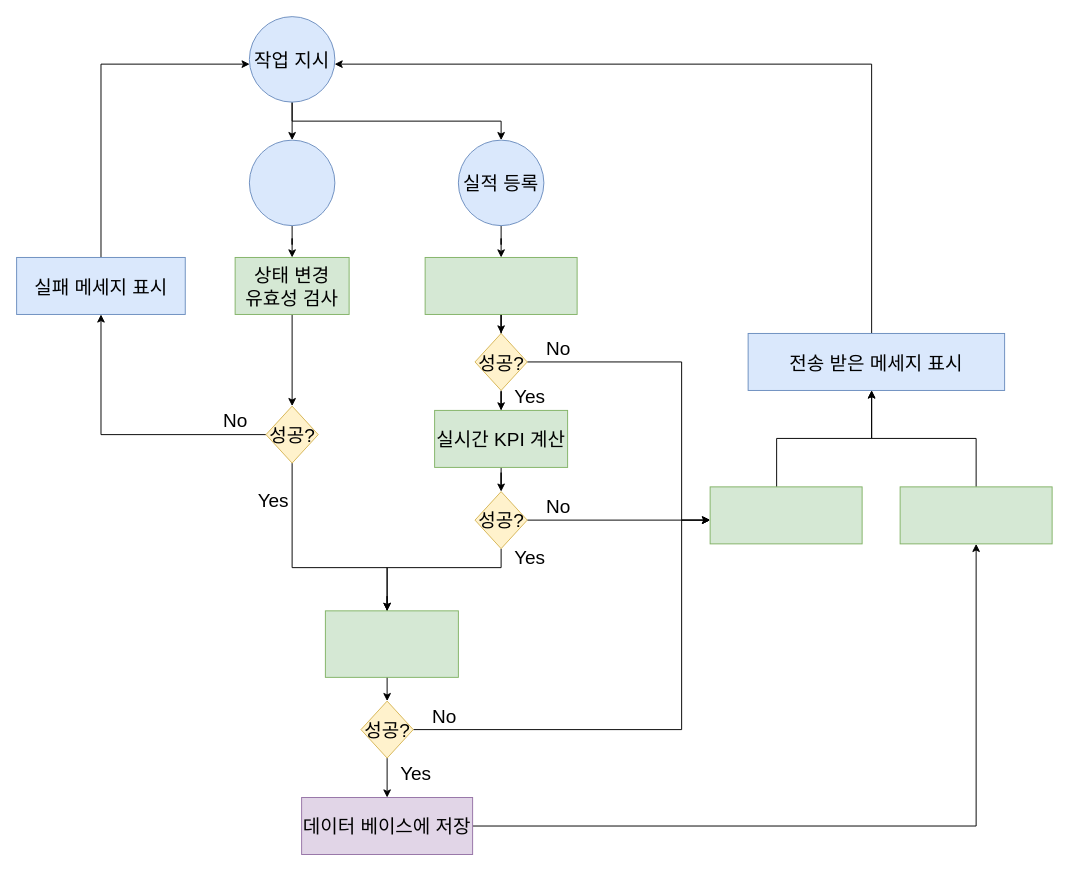
The diagram is 1069 pixels wide and 871 high, and some of its shapes have lost their labels. Here are the shapes that lost their labels. From the top down, the centre of each, then its label:
At pixel 291 182: "작업지시 상태 변경".
At pixel 500 285: "실적 유효성 검사".
At pixel 785 515: "실패 메세지 전송".
At pixel 975 515: "성공 메세지 전송".
At pixel 391 643: "데이터 베이스에 저장 시도".
